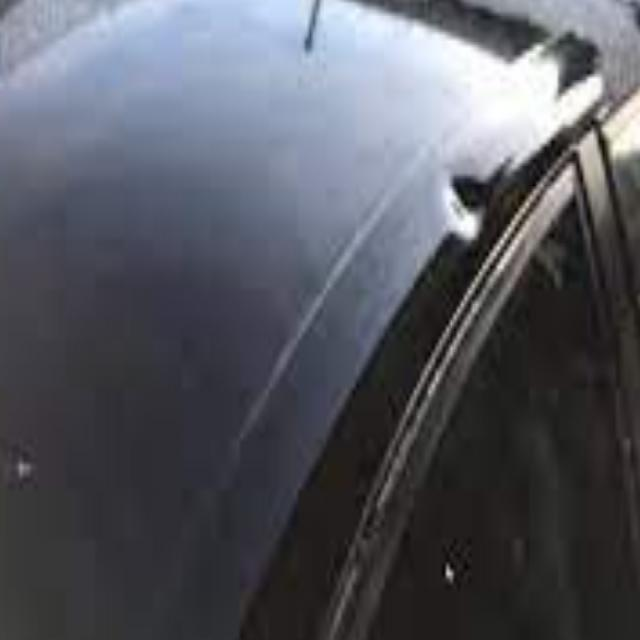dents: (437, 173, 521, 260)
